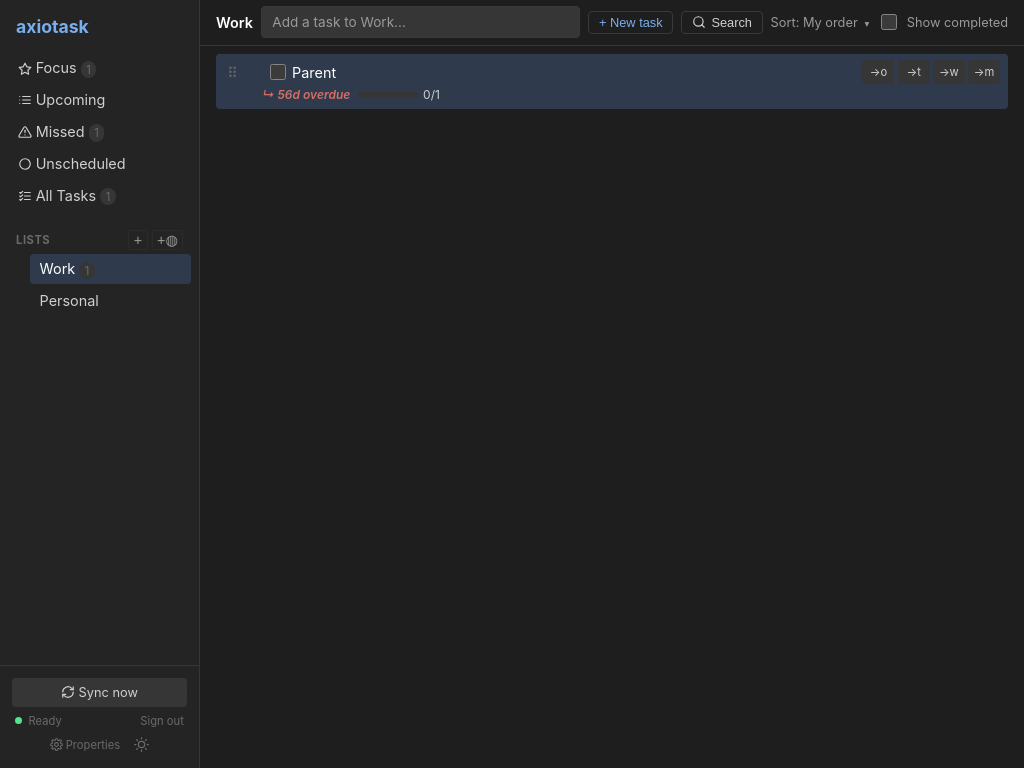
TaskDetail Panel (GH#7) › Subtasks checklist › lets a parent detail panel edit subtask due dates inline
Click the text "Parent": point(314, 72) x1=292 y1=64 x2=336 y2=81
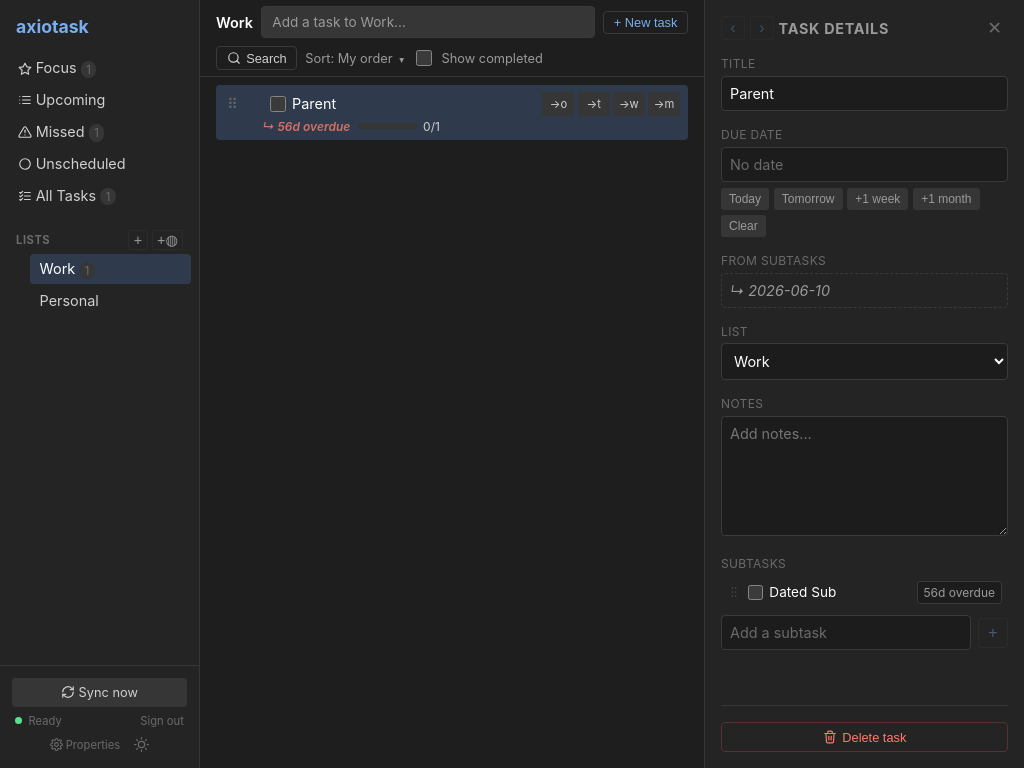
Click the button with aria-label "Subtask due date: 2026-06-10": point(959, 592) x1=917 y1=581 x2=1002 y2=604
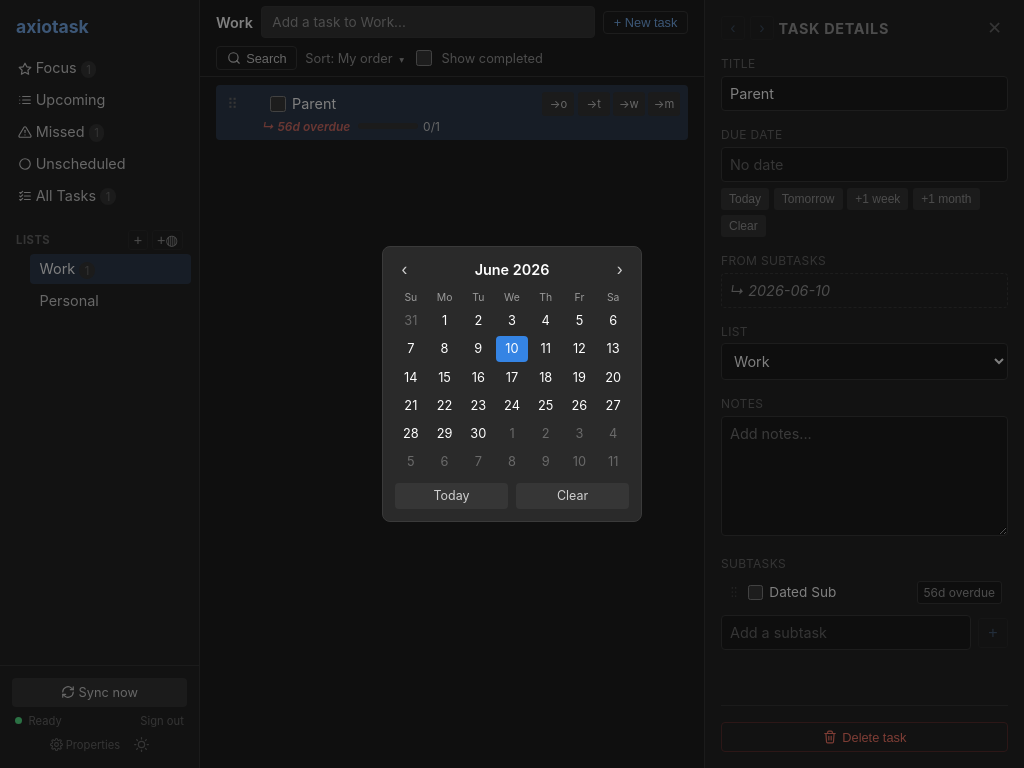
Expected: the dialog named "Pick a date" is shown, x1=382 y1=246 x2=642 y2=522
Click the button named "2026-06-17": point(512, 377) x1=496 y1=364 x2=528 y2=390
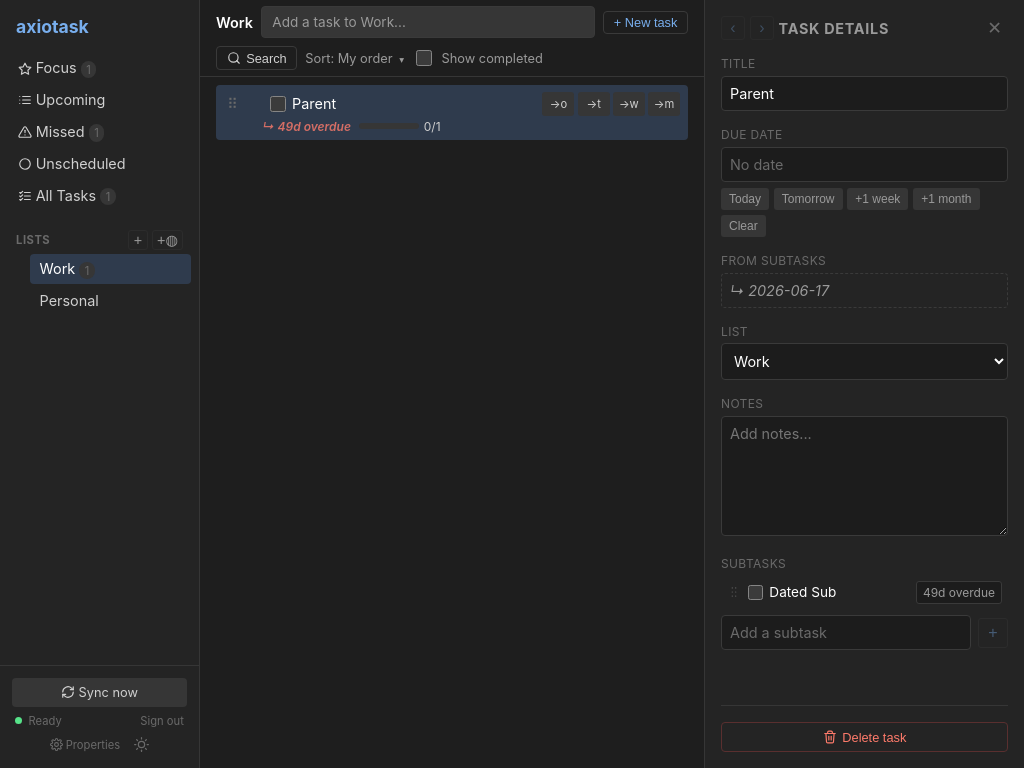
Expected: the button with aria-label "Subtask due date: 2026-06-17" is shown, x1=916 y1=581 x2=1002 y2=604
